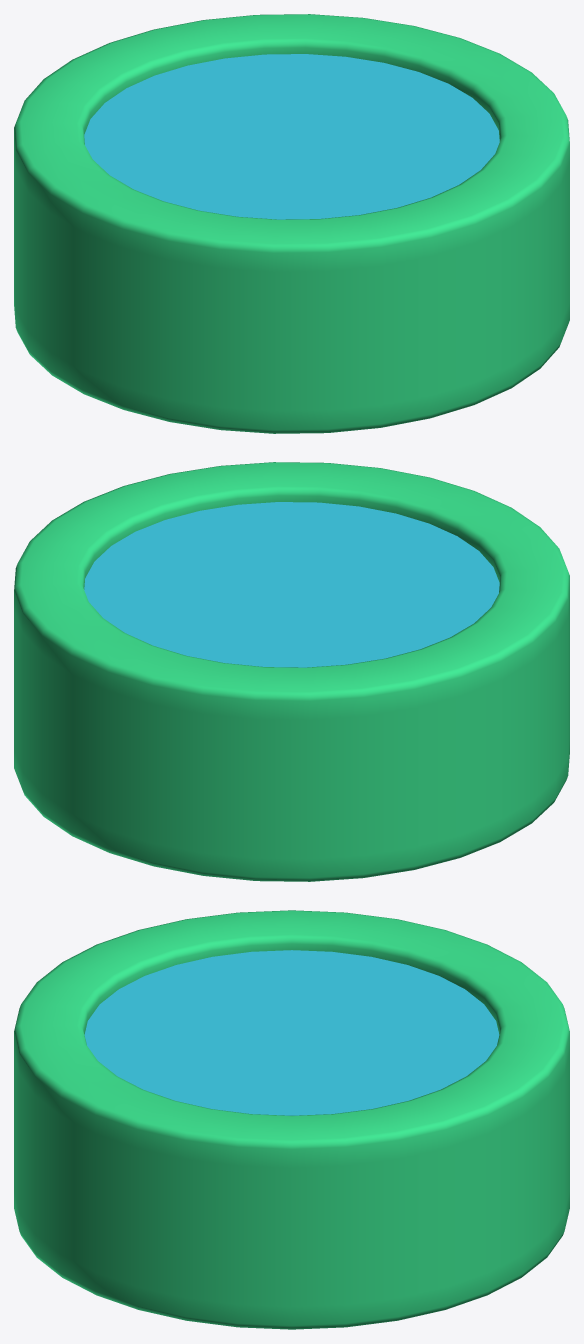
Rendered from SoftCylinderFlat.FBX.
3 views of the same model, one above another, from view 1: azimuth 30°, elevation 25°; view 2: azimuth 150°, elevation 25°; view 3: azimuth 270°, elevation 25° (orthographic).
Parts seen in each view (by area): view 1: SoftCylinderFlat; view 2: SoftCylinderFlat; view 3: SoftCylinderFlat.
Boxes of the visible parts, x1,y1,x2,y2 form: SoftCylinderFlat: (14,14,569,433); SoftCylinderFlat: (14,462,569,881); SoftCylinderFlat: (14,910,569,1329).
Bounding box in the file's own units: 157 × 59.06 × 157.
